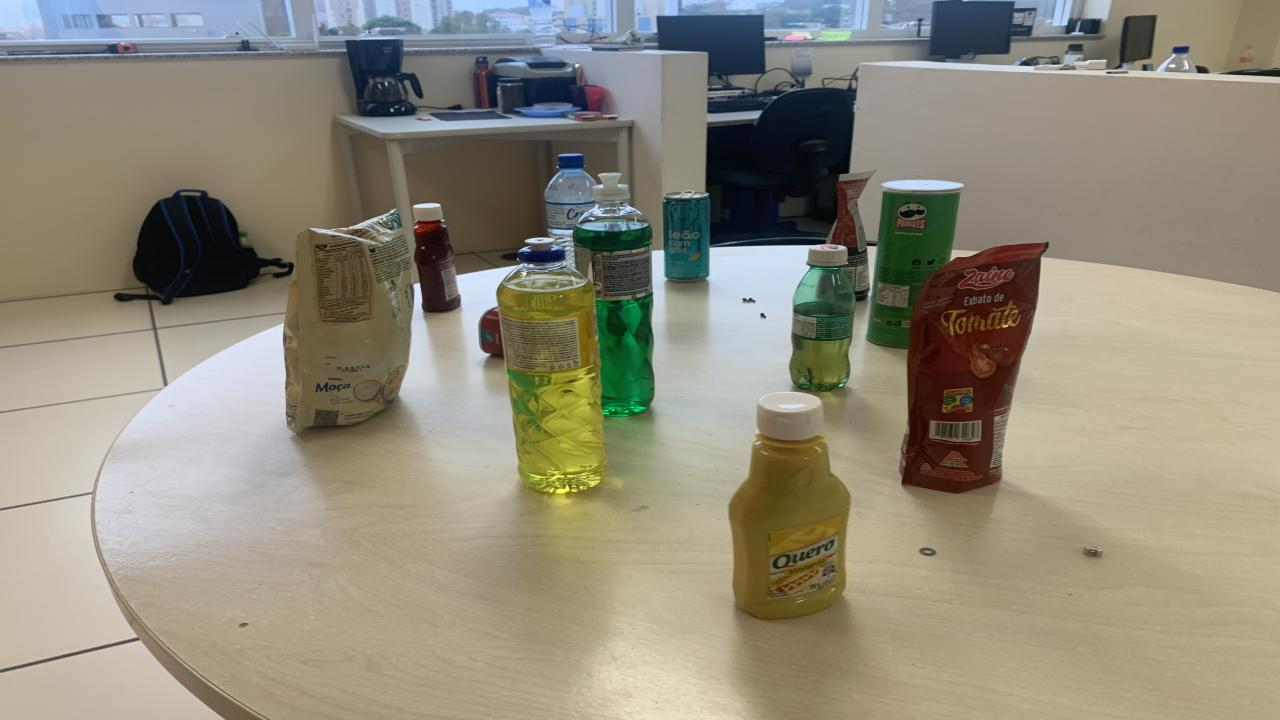Detergent-Cleanup_Items: (498, 238, 608, 493), (572, 174, 655, 416)
Flakes-Snacks: (282, 210, 415, 431)
Guarana-Drinks: (790, 244, 855, 392)
Ketchup-Pantry_Items: (412, 202, 460, 311)
Mustard-Pantry_Items: (730, 392, 850, 619)
Pringles-Snacks: (868, 180, 962, 347)
Tea-Drinks: (662, 191, 710, 281)
Tomato_Sauce-Pantry_Items: (900, 244, 1048, 493), (828, 171, 875, 300)
Tuna_Can-Pantry_Items: (478, 308, 502, 356)
Water_Bottle-Drinks: (545, 154, 595, 264)
